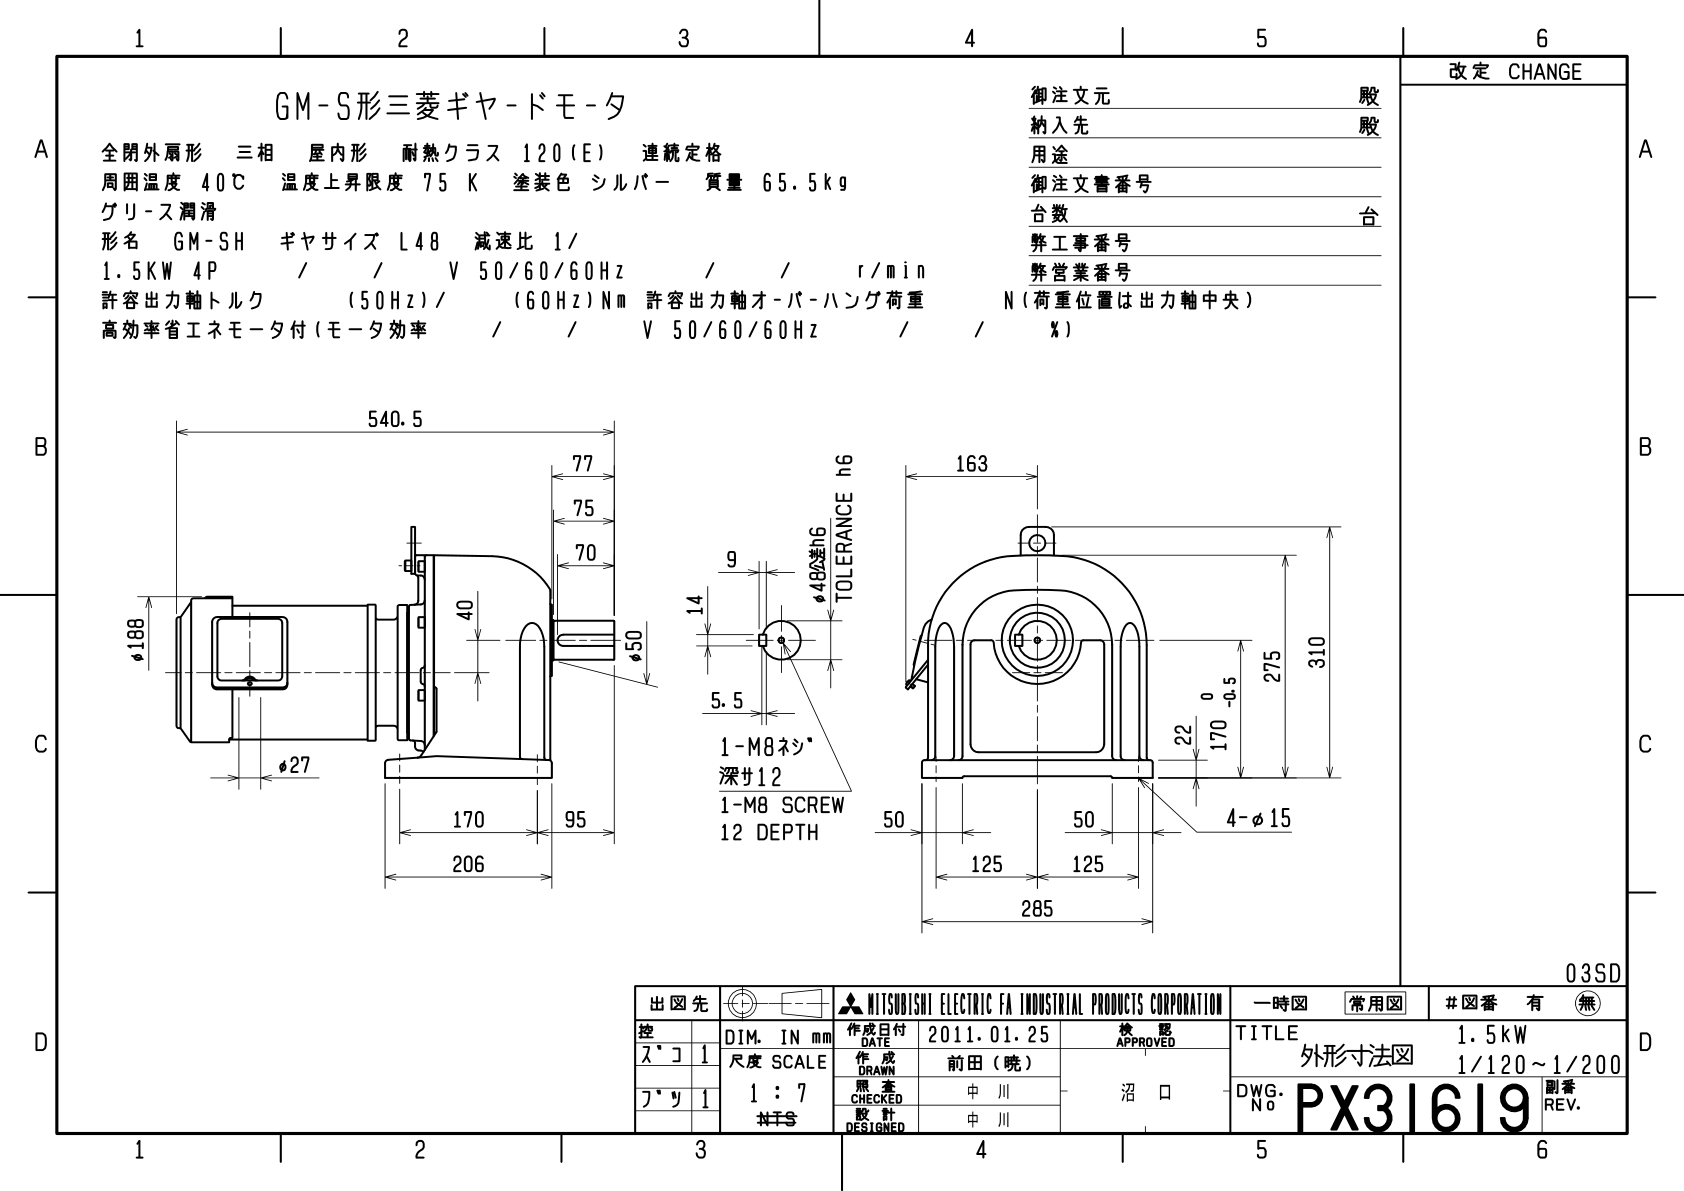GM_S_高効率屋内＿三相_脚: (81, 382, 1377, 963)
